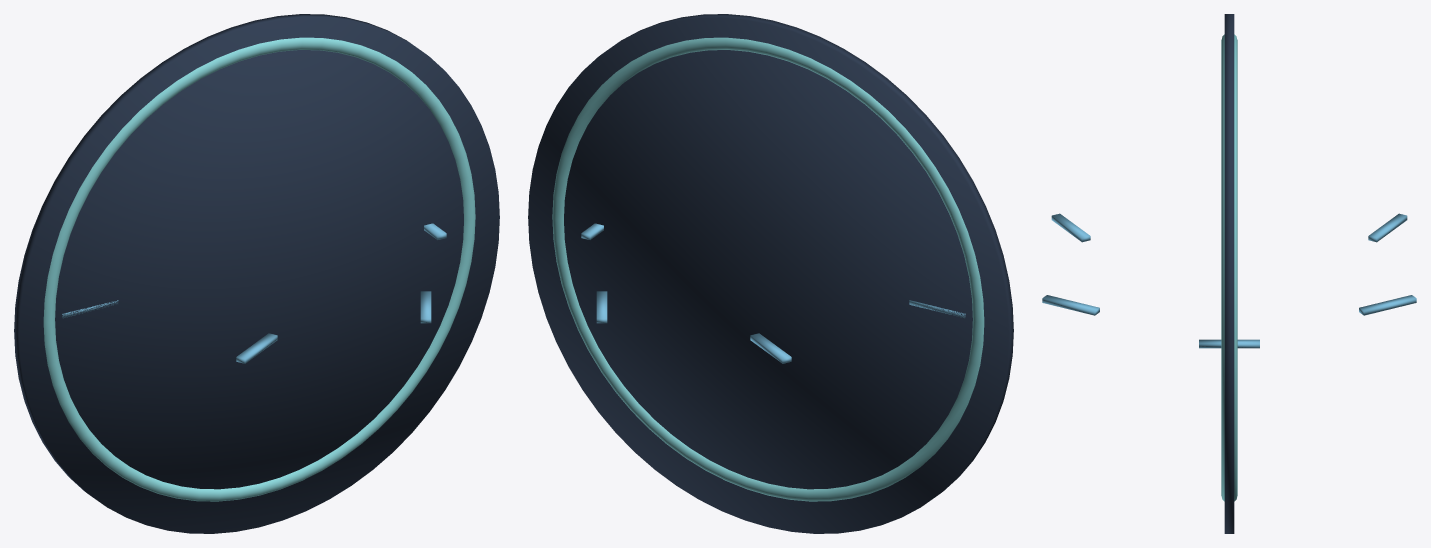
Rendered from entry-floor-ring-v1.gltf.
3 views of the same model, side by side, from view 1: azimuth 30°, elevation 25°; view 2: azimuth 150°, elevation 25°; view 3: azimuth 270°, elevation 25° (orthographic). The views are drawn at different scales.
Visible parts, largest first — view 1: entry-floor-ring-v1-00, entry-floor-ring-v1-01; view 2: entry-floor-ring-v1-00, entry-floor-ring-v1-01; view 3: entry-floor-ring-v1-00, entry-floor-ring-v1-01, entry-floor-ring-v1-04, entry-floor-ring-v1-08, entry-floor-ring-v1-05, entry-floor-ring-v1-07, entry-floor-ring-v1-03.
Boxes of the visible parts, x1,y1,x2,y2 form: entry-floor-ring-v1-00: (14,14,499,533); entry-floor-ring-v1-01: (43,37,475,501); entry-floor-ring-v1-00: (528,14,1013,533); entry-floor-ring-v1-01: (552,37,984,501); entry-floor-ring-v1-00: (1224,14,1234,533); entry-floor-ring-v1-01: (1221,34,1237,501); entry-floor-ring-v1-04: (1042,295,1099,315); entry-floor-ring-v1-08: (1359,295,1416,315); entry-floor-ring-v1-05: (1051,213,1090,242); entry-floor-ring-v1-07: (1368,213,1407,242); entry-floor-ring-v1-03: (1199,339,1259,348).
Bounding box in the file's own units: 6.4 × 6.4 × 4.61.
